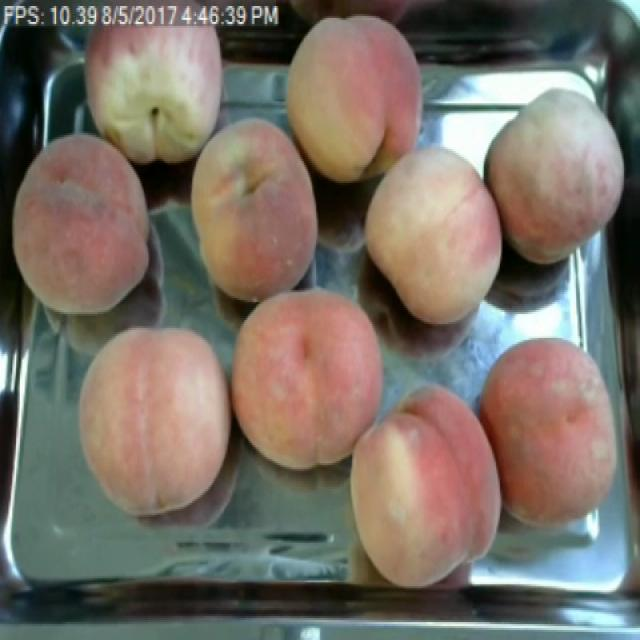Fruit: (339, 372, 516, 592), (70, 316, 242, 525), (470, 326, 634, 539), (227, 276, 397, 481), (0, 121, 167, 328), (177, 107, 328, 312), (353, 145, 512, 336), (477, 82, 632, 274), (277, 6, 433, 191), (70, 22, 234, 175)
